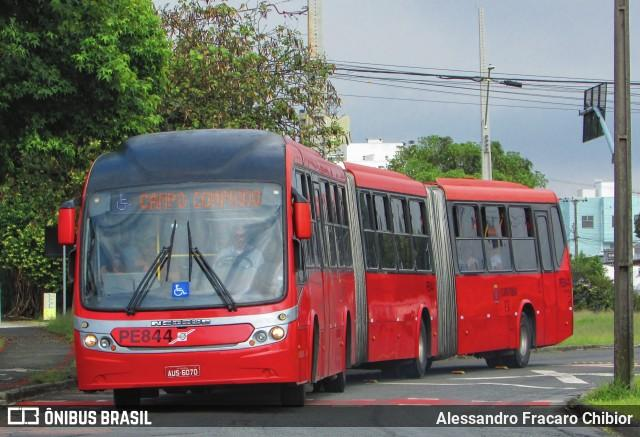CAMPO COMPRIDO: (135, 185, 264, 213)
